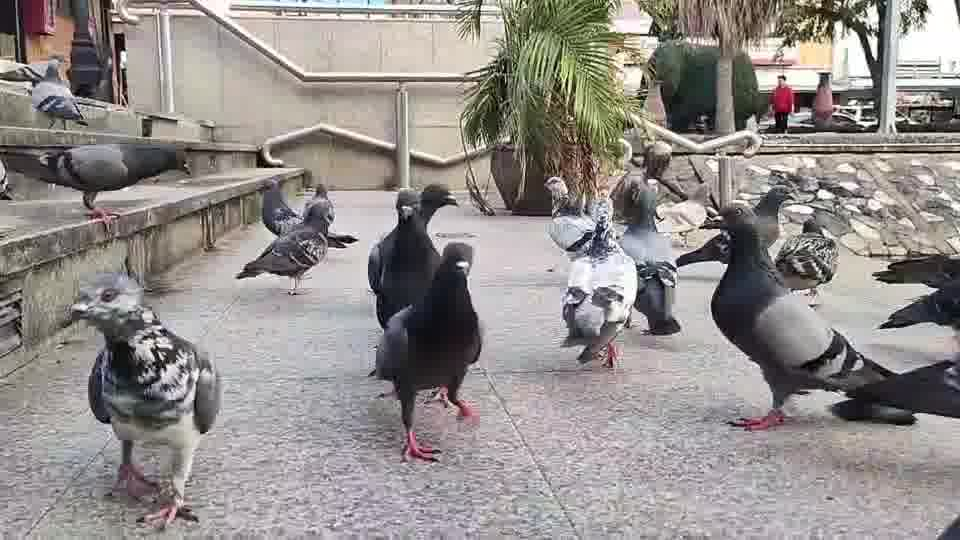Pigeon: (675, 200, 911, 431), (61, 270, 222, 530), (369, 240, 482, 464), (831, 250, 959, 425), (366, 182, 460, 399), (554, 198, 638, 369), (36, 140, 190, 230), (233, 197, 358, 295), (615, 173, 681, 335), (830, 357, 959, 424), (254, 176, 358, 248), (773, 216, 839, 306), (542, 175, 596, 258), (29, 57, 88, 130)
